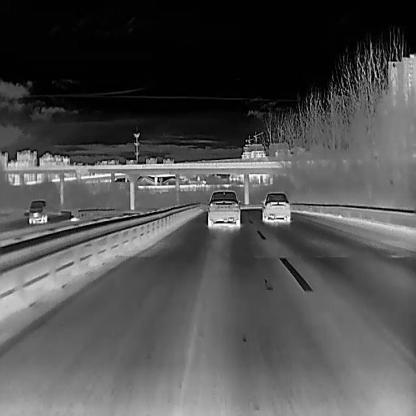car: (207, 190, 241, 227), (27, 199, 71, 223), (261, 192, 290, 221)
